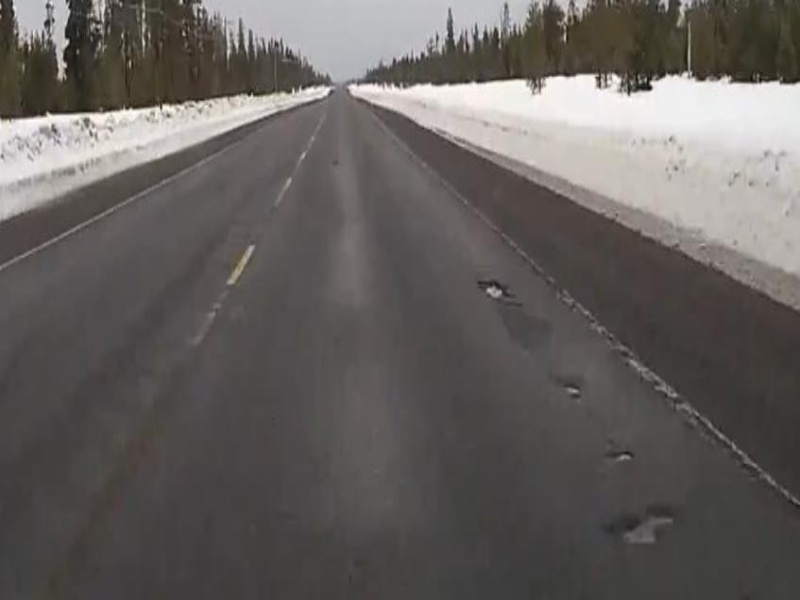pothole: (616, 507, 679, 548), (474, 273, 512, 307)
